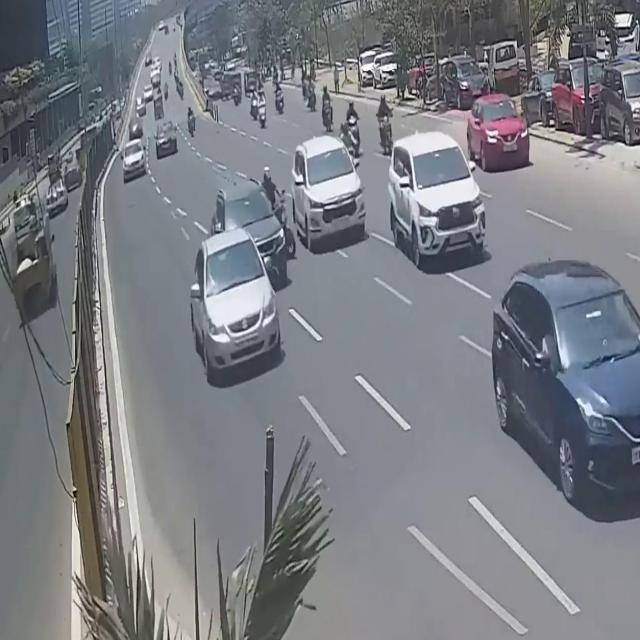accident: (207, 163, 297, 297)
non_accident: (514, 56, 640, 148), (404, 46, 487, 106), (209, 66, 268, 134), (355, 33, 402, 97), (132, 46, 168, 118)
